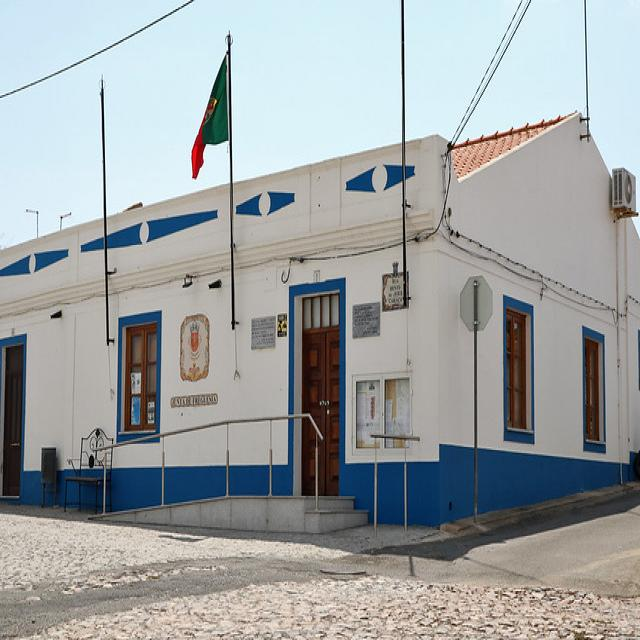Normal_building: (4, 106, 638, 527)
